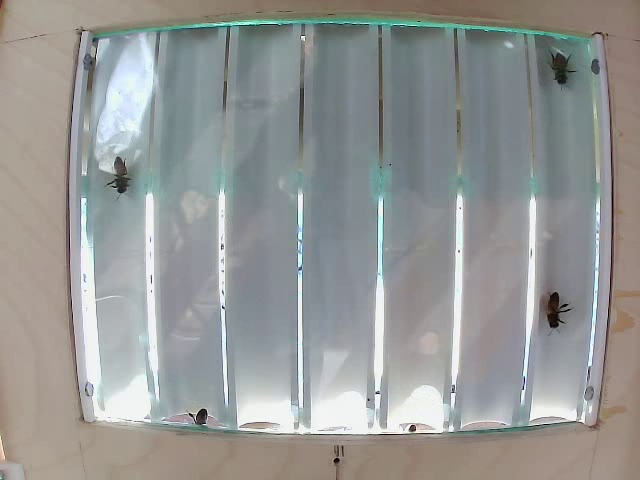bee: (546, 54, 571, 106), (541, 284, 565, 329), (108, 166, 142, 197)
